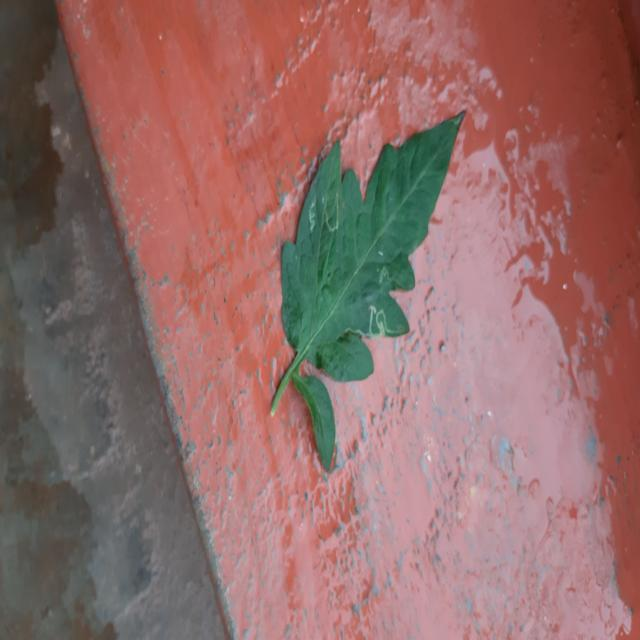tomato: (271, 111, 464, 469)
